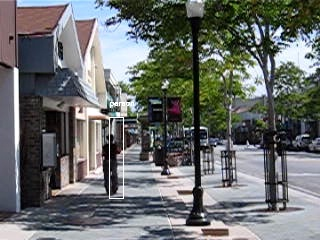person: (102, 133, 121, 194), (101, 133, 120, 194), (103, 133, 122, 194), (102, 132, 121, 193), (102, 134, 121, 195)
target_negative: (31, 4, 311, 157), (293, 37, 307, 219), (15, 210, 132, 228), (276, 160, 293, 225), (318, 176, 319, 240)
